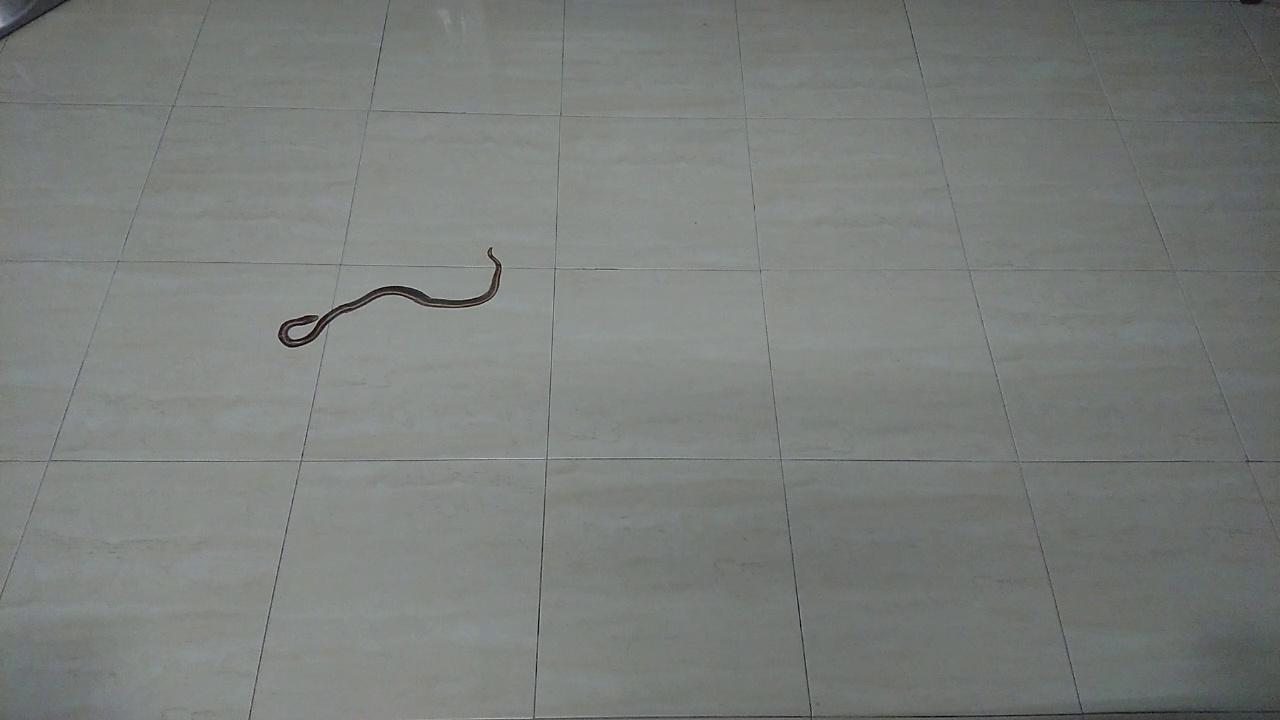snake: (259, 235, 530, 359)
